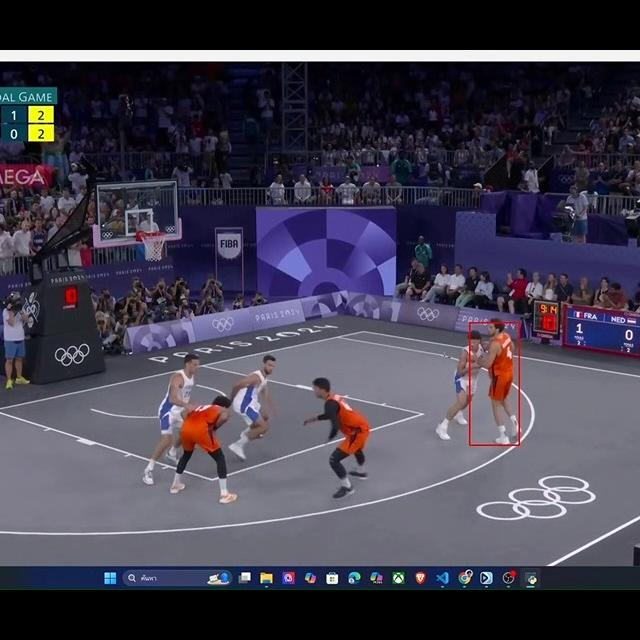hoop: (142, 227, 167, 261)
